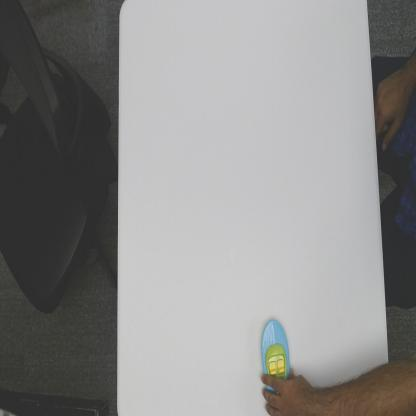Arm: (312, 363, 388, 416)
Boat: (261, 317, 292, 395)
Hand: (259, 370, 312, 416)
